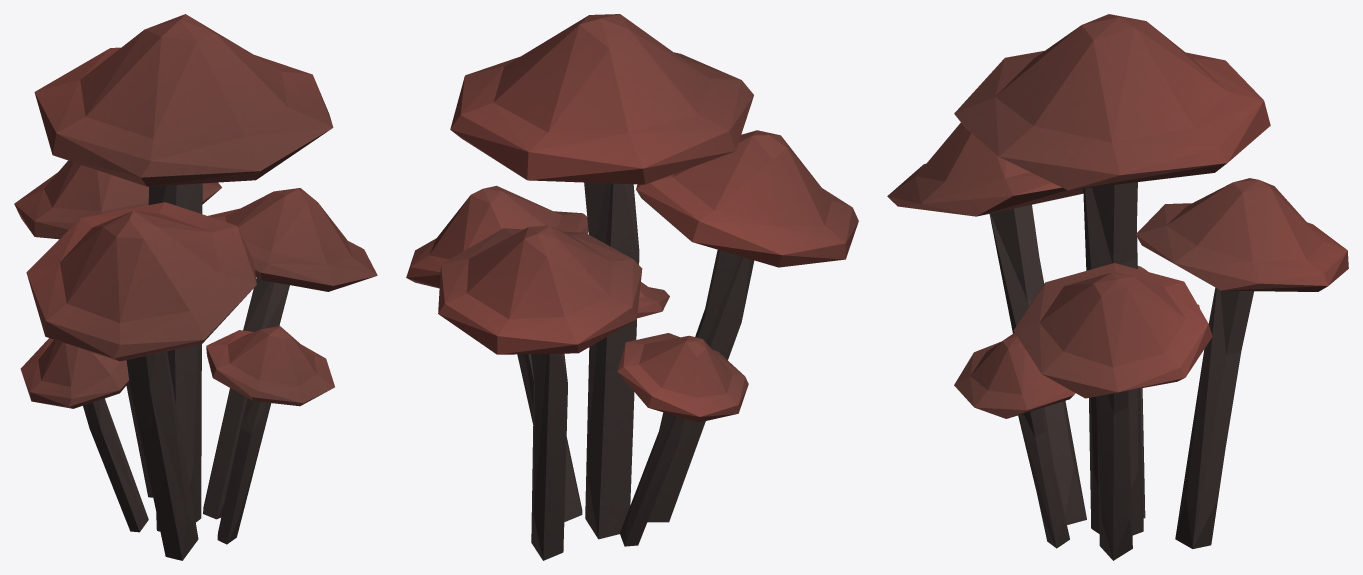
Rendered from Mush_1B.fbx.
3 views of the same model, side by side, from view 1: azimuth 30°, elevation 25°; view 2: azimuth 150°, elevation 25°; view 3: azimuth 270°, elevation 25° (orthographic). The views are drawn at different scales.
Parts seen in each view (by area): view 1: polySurface1312; view 2: polySurface1312; view 3: polySurface1312.
Part boxes in pixels (x1=…): polySurface1312: x1=14, y1=14, x2=377, y2=560; polySurface1312: x1=406, y1=14, x2=858, y2=560; polySurface1312: x1=887, y1=14, x2=1348, y2=560.
Bounding box in the file's own units: 2.17 × 2.83 × 2.26.
